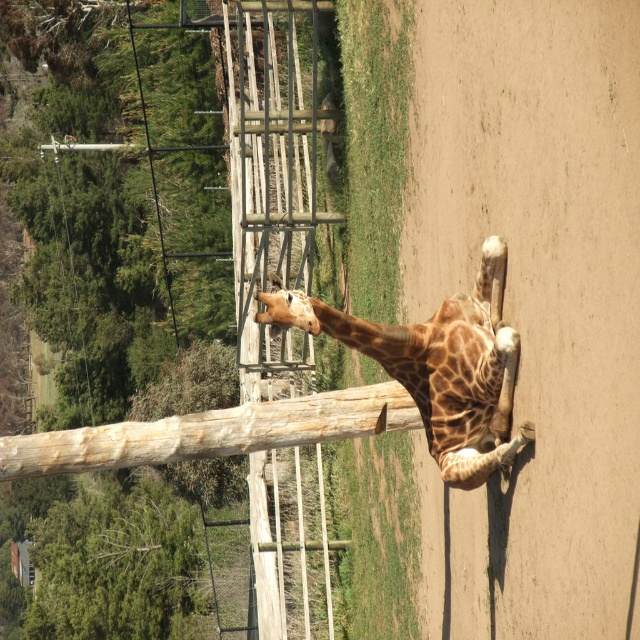Giraffe: (256, 231, 534, 489)
